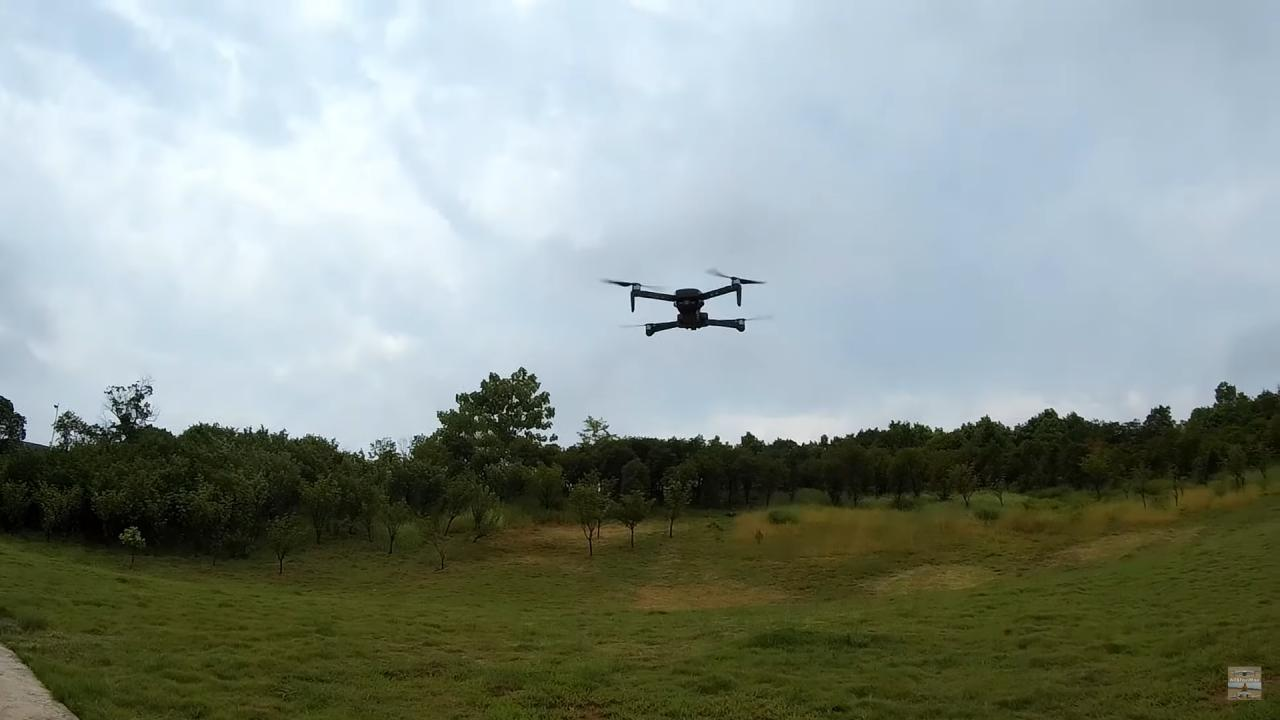Drone: (595, 251, 779, 348)
